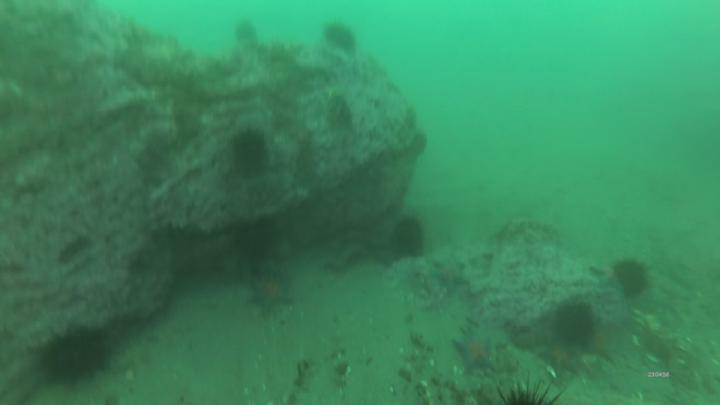echinus: (39, 332, 110, 385), (556, 304, 596, 352), (232, 134, 270, 174), (392, 217, 426, 260), (231, 227, 271, 258), (617, 261, 649, 297), (325, 22, 355, 50), (235, 22, 257, 41)
scallop: (644, 312, 663, 332)
starfish: (454, 327, 495, 372), (250, 276, 293, 315), (542, 348, 574, 379)
